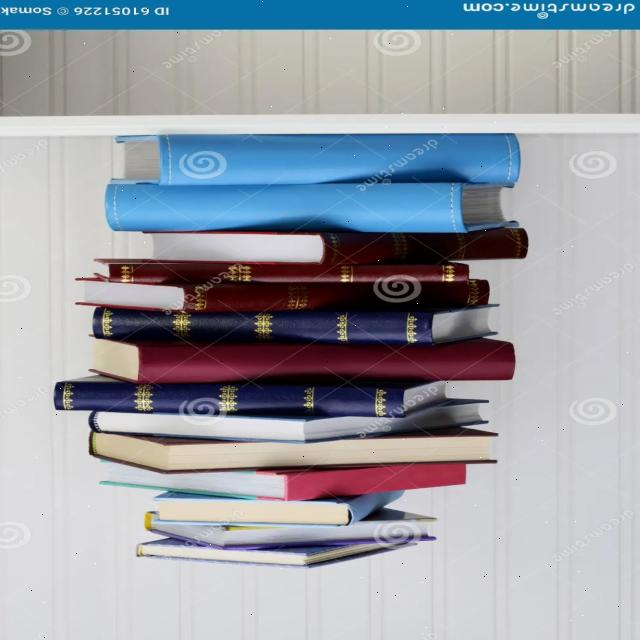book: (109, 182, 461, 233), (159, 136, 519, 185), (139, 347, 512, 380), (93, 308, 430, 340), (54, 387, 404, 415), (184, 279, 487, 308), (285, 462, 464, 500), (325, 231, 529, 263)
